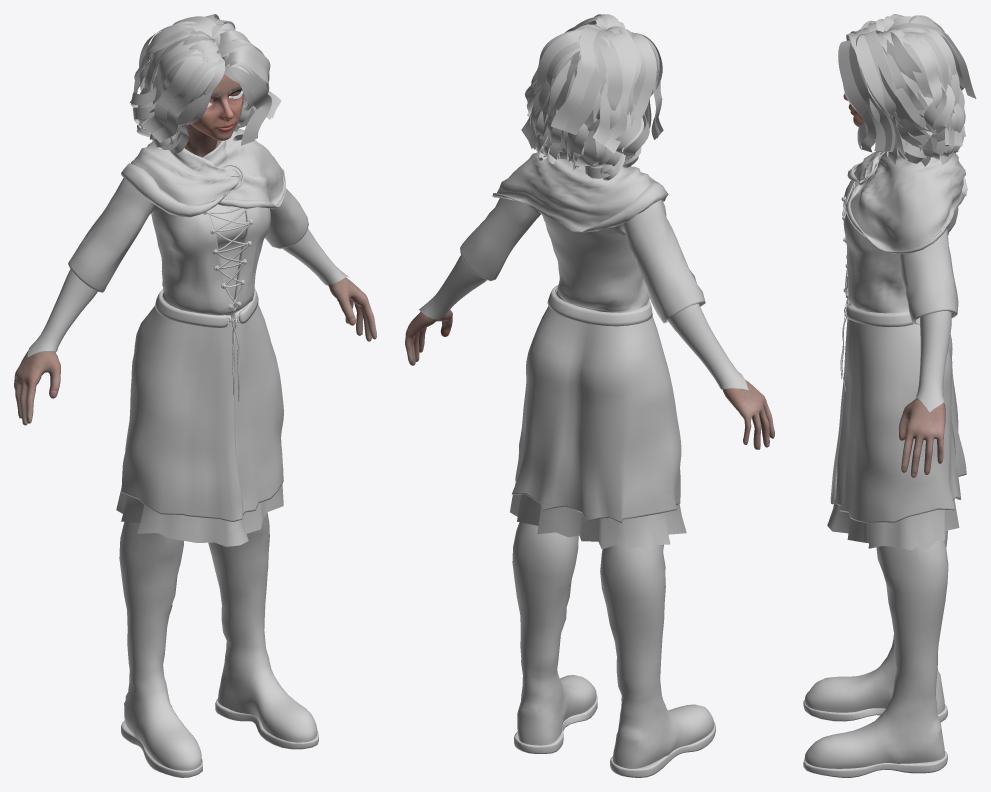
Rendered from uploads_files_3936472_Melina.fbx.
3 renders of one model, left to right at view 1: azimuth 30°, elevation 25°; view 2: azimuth 150°, elevation 25°; view 3: azimuth 270°, elevation 25°, orthographic.
Parts seen in each view (by area): view 1: SkirtUpper, BootMain, TopMelina, Scarf, Hairs, Mesh, MelinaBody, SkirtLower, Sleeves, SoleBoot, VestMelina, Belt (+1 smaller); view 2: SkirtUpper, BootMain, TopMelina, Mesh, Hairs, Scarf, SkirtLower, Sleeves, MelinaBody, SoleBoot, Belt; view 3: SkirtUpper, BootMain, Scarf, Hairs, TopMelina, Mesh, SkirtLower, MelinaBody, Sleeves, SoleBoot, Belt.
Boxes of the visible parts, bbox=[...] form: SkirtUpper: bbox=[121, 292, 283, 521]; BootMain: bbox=[119, 513, 317, 770]; TopMelina: bbox=[68, 140, 308, 322]; Scarf: bbox=[121, 128, 285, 217]; Hairs: bbox=[131, 19, 271, 153]; Mesh: bbox=[130, 14, 281, 142]; MelinaBody: bbox=[14, 74, 376, 425]; SkirtLower: bbox=[116, 327, 283, 546]; Sleeves: bbox=[27, 228, 349, 357]; SoleBoot: bbox=[121, 699, 318, 777]; VestMelina: bbox=[208, 204, 246, 301]; Belt: bbox=[155, 287, 258, 327]; SkirtUpper: bbox=[511, 289, 681, 523]; BootMain: bbox=[512, 522, 714, 768]; TopMelina: bbox=[460, 197, 705, 323]; Mesh: bbox=[521, 14, 663, 153]; Hairs: bbox=[525, 23, 662, 180]; Scarf: bbox=[492, 152, 668, 232]; SkirtLower: bbox=[510, 482, 686, 551]; Sleeves: bbox=[419, 255, 748, 389]; MelinaBody: bbox=[405, 309, 774, 449]; SoleBoot: bbox=[514, 695, 715, 777]; Belt: bbox=[547, 285, 652, 326]; SkirtUpper: bbox=[830, 302, 966, 523]; BootMain: bbox=[804, 530, 948, 768]; Scarf: bbox=[845, 151, 967, 254]; Hairs: bbox=[843, 15, 965, 166]; TopMelina: bbox=[843, 180, 958, 324]; Mesh: bbox=[838, 14, 976, 152]; SkirtLower: bbox=[827, 494, 959, 550]; MelinaBody: bbox=[843, 93, 945, 477]; Sleeves: bbox=[916, 233, 951, 412]; SoleBoot: bbox=[803, 700, 947, 777]; Belt: bbox=[846, 298, 913, 327].
Size of the model in its own units: 86.8 by 167 by 36.58.
